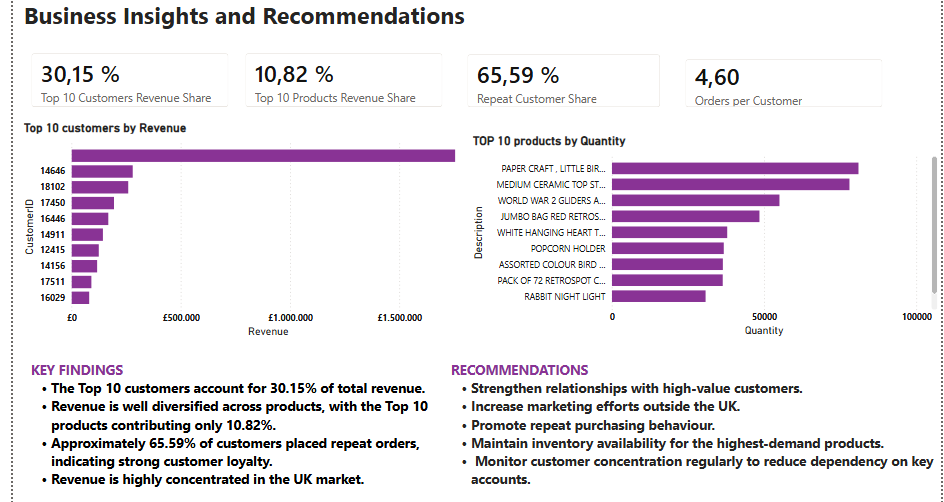

This screenshot's page, from the dashboard's own definition file:
{"tool":"powerbi","page":{"name":"Business Insights","canvas":[1280,720],"ordinal":2},"visuals":[{"type":"textbox","box":[9.7,0,669,63.4],"z":0},{"type":"cardVisual","fields":{"Data":["New Measures.Top 10 Customers Revenue Share"]},"box":[8.3,63.4,306.2,109],"z":1000},{"type":"cardVisual","fields":{"Data":["New Measures.Top 10 Products Revenue Share"]},"box":[303.4,63.4,306.2,109],"z":2000},{"type":"cardVisual","fields":{"Data":["New Measures.Orders per Customer"]},"box":[910.3,71.7,306.2,100.7],"z":3000},{"type":"cardVisual","fields":{"Data":["New Measures.Repeat Customer Share"]},"box":[609.7,64.8,300.7,107.6],"z":4000},{"type":"barChart","title":"Top 10 customers by Revenue","fields":{"Category":["Sales.CustomerID"],"Y":["Measures (2).Total Revenue"]},"box":[9.7,172.4,649.7,304.8],"z":5000},{"type":"textbox","box":[19.3,499.3,560,220.7],"z":6000},{"type":"clusteredBarChart","title":"TOP 10 products by Quantity","fields":{"Y":["Sum(Sales.Quantity)"],"Category":["Sales.Description"]},"box":[629,190.3,651,285.5],"z":7000},{"type":"textbox","box":[598.6,499.3,681.4,220.7],"z":8000}]}

Visuals, with their boxes on the page's 1280x720 design canvas (x1, y1, x2, y2). These are canvas units, not pixel positions in the 944x502 screenshot, which may show the page scaled, cropped or inside an application window:
textbox: <bbox>10, 0, 679, 63</bbox>
cardVisual - New Measures.Top 10 Customers Revenue Share: <bbox>8, 63, 314, 172</bbox>
cardVisual - New Measures.Top 10 Products Revenue Share: <bbox>303, 63, 610, 172</bbox>
cardVisual - New Measures.Orders per Customer: <bbox>910, 72, 1216, 172</bbox>
cardVisual - New Measures.Repeat Customer Share: <bbox>610, 65, 910, 172</bbox>
"Top 10 customers by Revenue" barChart: <bbox>10, 172, 659, 477</bbox>
textbox: <bbox>19, 499, 579, 720</bbox>
"TOP 10 products by Quantity" clusteredBarChart: <bbox>629, 190, 1280, 476</bbox>
textbox: <bbox>599, 499, 1280, 720</bbox>
